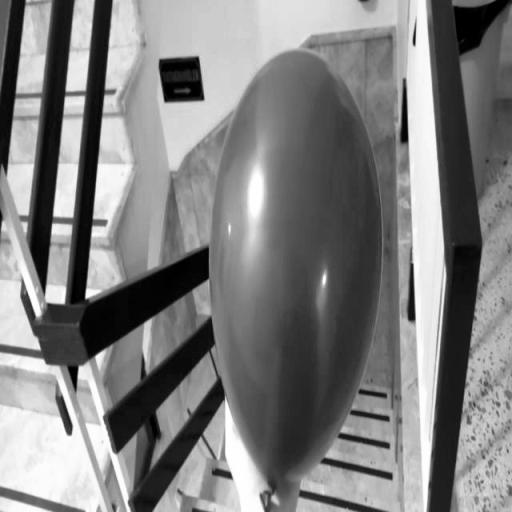balloon: (208, 39, 388, 512)
